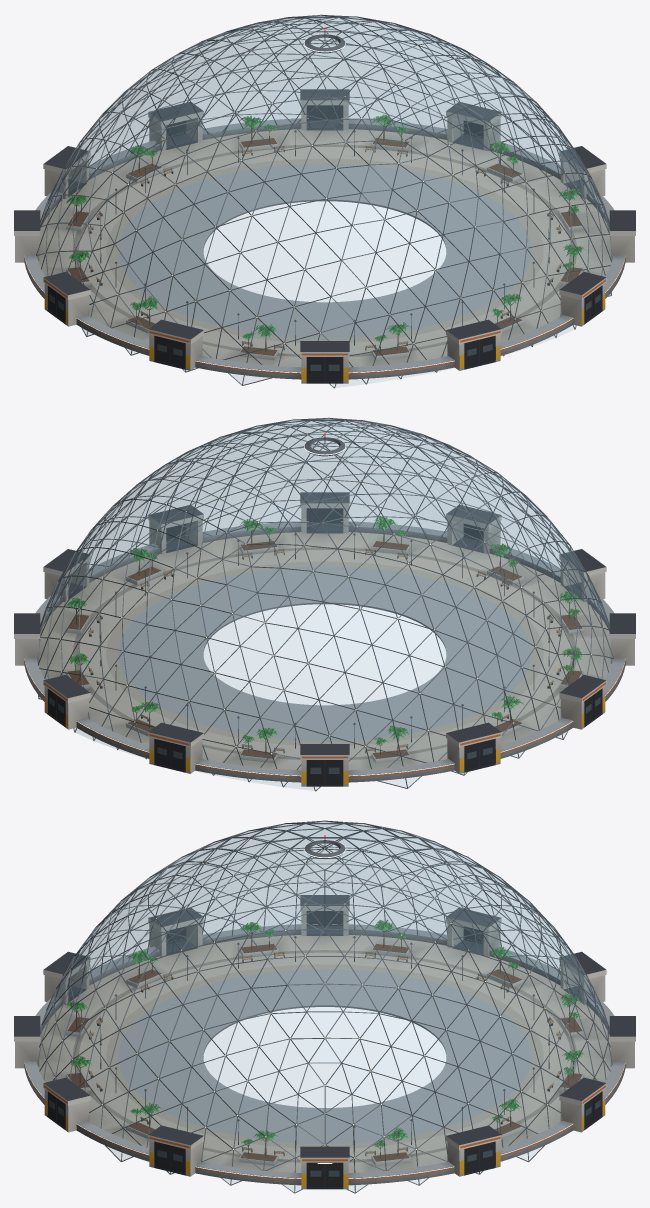
The model's file is dome_shell.glb.
3 renders of one model, top to bottom at view 1: azimuth 30°, elevation 25°; view 2: azimuth 150°, elevation 25°; view 3: azimuth 270°, elevation 25°, orthographic.
Visible parts, largest first — view 1: Dome_Glass, Foundation_Slab, Dome_Frame, Gates_Body, Promenade_Props, Dome_Lights; view 2: Dome_Glass, Foundation_Slab, Dome_Frame, Gates_Body, Promenade_Props, Dome_Lights; view 3: Dome_Glass, Foundation_Slab, Dome_Frame, Gates_Body, Promenade_Props, Dome_Lights.
Boxes of the visible parts, x1,y1,x2,y2 form: Dome_Glass: (37, 15, 611, 387); Foundation_Slab: (24, 118, 625, 379); Dome_Frame: (36, 14, 612, 388); Gates_Body: (14, 89, 635, 383); Promenade_Props: (66, 114, 585, 360); Dome_Lights: (24, 29, 625, 373); Dome_Glass: (37, 418, 612, 790); Foundation_Slab: (24, 521, 625, 782); Dome_Frame: (37, 417, 613, 791); Gates_Body: (14, 492, 635, 786); Promenade_Props: (65, 516, 583, 763); Dome_Lights: (24, 420, 625, 776); Dome_Glass: (38, 821, 611, 1191); Foundation_Slab: (24, 924, 625, 1185); Dome_Frame: (37, 820, 612, 1193); Gates_Body: (14, 895, 635, 1189); Promenade_Props: (65, 919, 584, 1165); Dome_Lights: (24, 830, 625, 1178).
Bounding box in the file's own units: 103 × 42.96 × 102.
